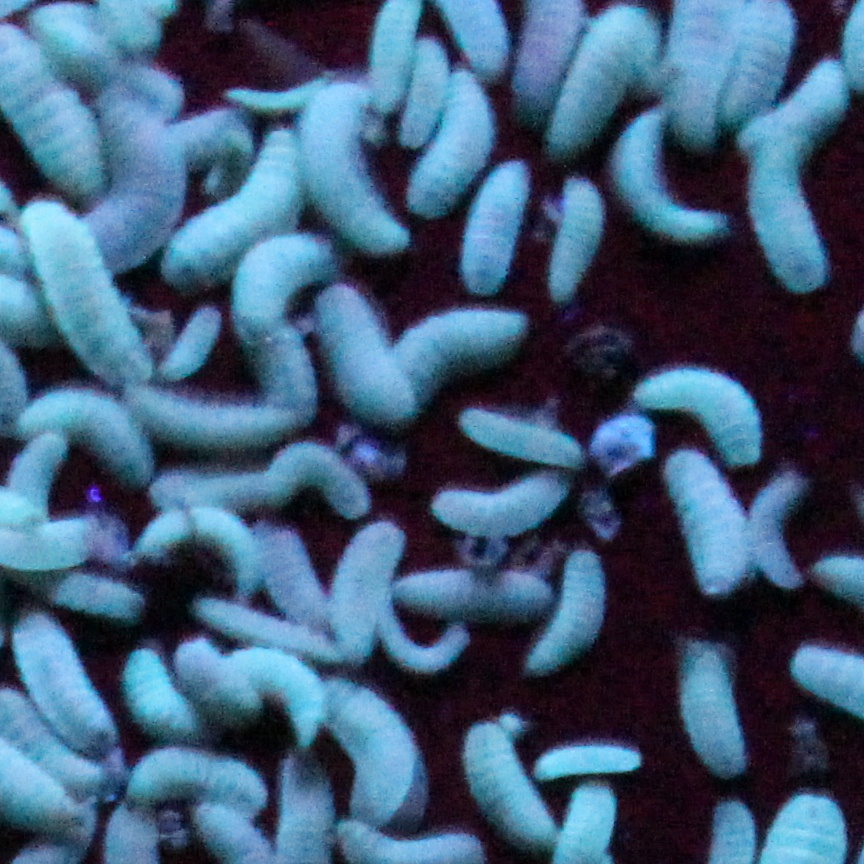larve: (11, 185, 139, 374), (142, 127, 294, 273), (535, 9, 655, 147), (301, 100, 398, 259), (12, 621, 124, 757), (99, 91, 188, 260), (7, 385, 164, 479), (606, 114, 724, 239), (317, 677, 416, 816), (386, 304, 532, 396), (660, 449, 752, 590), (753, 137, 830, 296), (408, 65, 486, 219), (642, 372, 767, 465), (317, 291, 406, 421), (460, 722, 547, 852), (430, 460, 568, 537), (524, 545, 604, 672), (232, 227, 334, 326), (121, 393, 301, 449), (198, 601, 355, 663), (452, 155, 526, 283), (227, 642, 319, 742), (21, 560, 152, 627), (150, 508, 257, 590), (337, 526, 408, 649), (457, 400, 581, 468), (252, 524, 326, 636), (675, 655, 744, 775), (663, 8, 726, 139), (134, 759, 273, 816), (170, 632, 255, 722), (744, 67, 840, 142), (250, 449, 370, 508), (750, 467, 806, 585), (388, 570, 560, 608), (375, 596, 465, 667), (121, 645, 188, 739), (516, 9, 581, 101), (544, 180, 599, 286), (427, 6, 509, 77), (404, 31, 448, 160), (252, 322, 317, 401), (7, 438, 70, 519), (742, 11, 794, 106), (540, 736, 639, 783), (166, 309, 227, 374), (378, 6, 411, 121), (230, 88, 357, 113)
